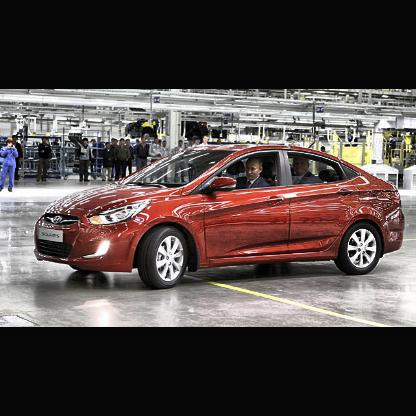Hyundai Accent Sedan 2012: (35, 143, 406, 275)
